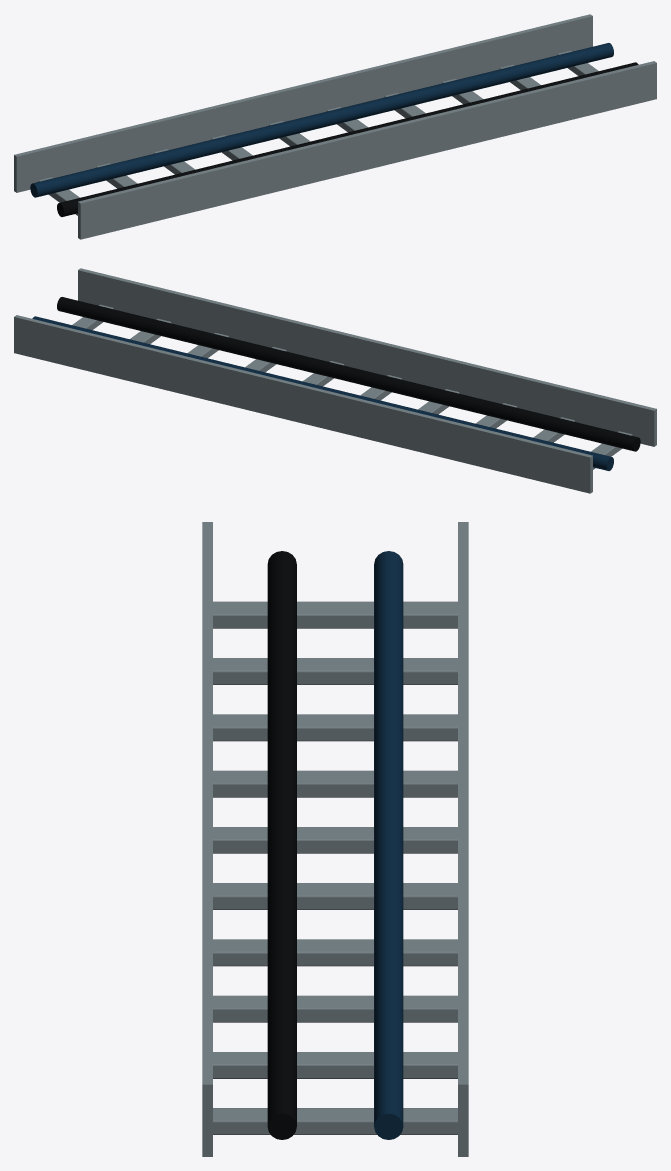
Rendered from OAA_CableTray_1m.fbx.
The picture shows the model from 3 angles, top to bottom: view 1: azimuth 30°, elevation 25°; view 2: azimuth 150°, elevation 25°; view 3: azimuth 270°, elevation 25°; orthographic projection. The views are drawn at different scales.
Parts seen in each view (by area): view 1: Body; view 2: Body; view 3: Body.
Part boxes in pixels (x1=…): Body: x1=14, y1=14, x2=656, y2=239; Body: x1=14, y1=268, x2=656, y2=493; Body: x1=202, y1=522, x2=468, y2=1156.
Size of the model in its own units: 1 by 0.06 by 0.2.
